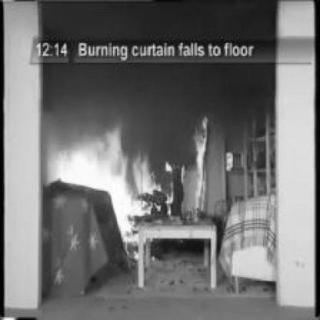Fire: (45, 131, 211, 231)
